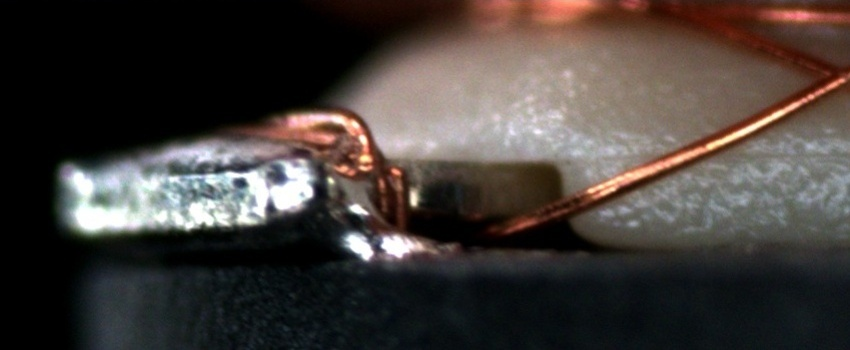CL: (797, 46, 848, 101)
DL: (598, 123, 849, 184)
TE: (250, 92, 417, 233)
